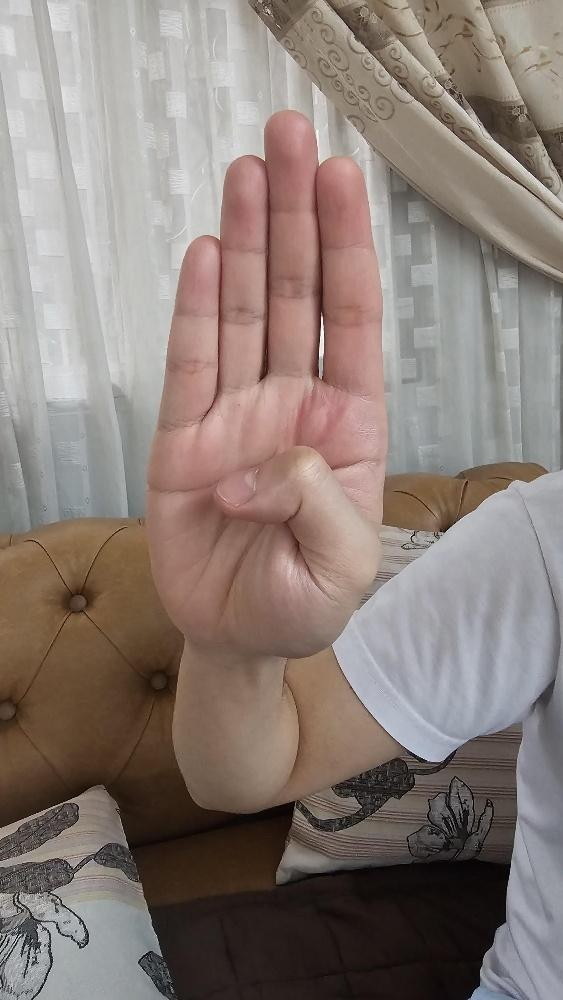b: (141, 105, 389, 663)
